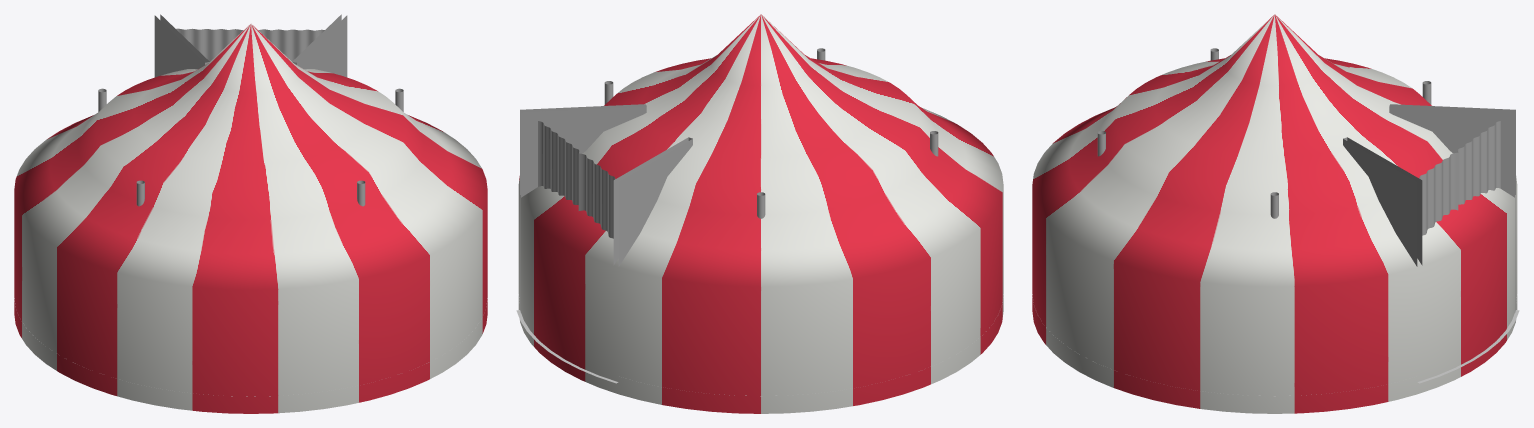
Rendered from vfyiwefvgwyuieghvwyuifvg2yufv2yuo2gvyui.fbx.
The picture shows the model from 3 angles, left to right: view 1: azimuth 30°, elevation 25°; view 2: azimuth 150°, elevation 25°; view 3: azimuth 270°, elevation 25°; orthographic projection. The views are drawn at different scales.
Visible parts, largest first — view 1: polySurface2, polySurface9, pPlane9, polySurface11; view 2: polySurface2, polySurface9, pPlane9, polySurface11; view 3: polySurface2, polySurface9, pPlane9, polySurface11.
Part boxes in pixels (x1=…): polySurface2: x1=14, y1=24, x2=487, y2=413; polySurface9: x1=154, y1=14, x2=347, y2=77; pPlane9: x1=176, y1=28, x2=324, y2=61; polySurface11: x1=98, y1=88, x2=403, y2=206; polySurface2: x1=518, y1=14, x2=1003, y2=413; polySurface9: x1=520, y1=104, x2=692, y2=322; pPlane9: x1=538, y1=121, x2=615, y2=238; polySurface11: x1=604, y1=48, x2=938, y2=218; polySurface2: x1=1032, y1=14, x2=1517, y2=413; polySurface9: x1=1343, y1=104, x2=1515, y2=322; pPlane9: x1=1419, y1=121, x2=1500, y2=235; polySurface11: x1=1097, y1=48, x2=1431, y2=218.
Bounding box in the file's own units: 2334 × 1580 × 2345.
